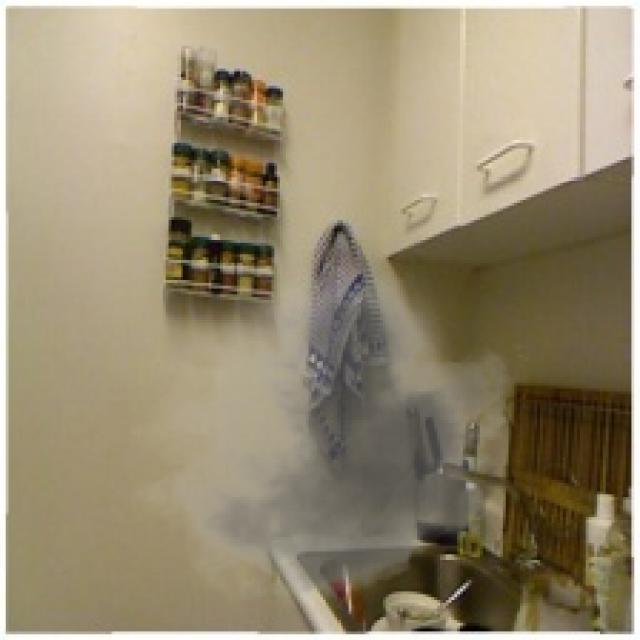Smoke: (128, 263, 528, 620)
